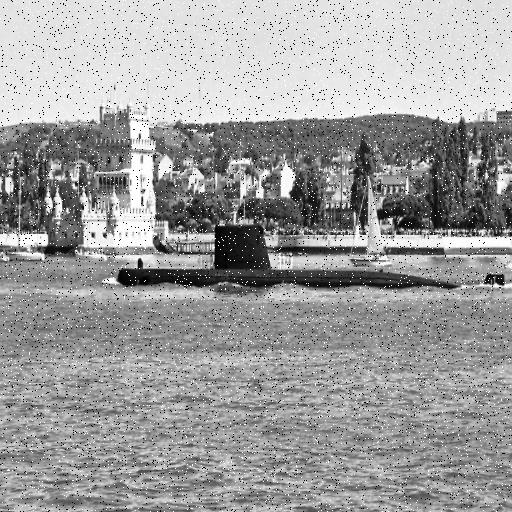submarine: (117, 223, 508, 289)
